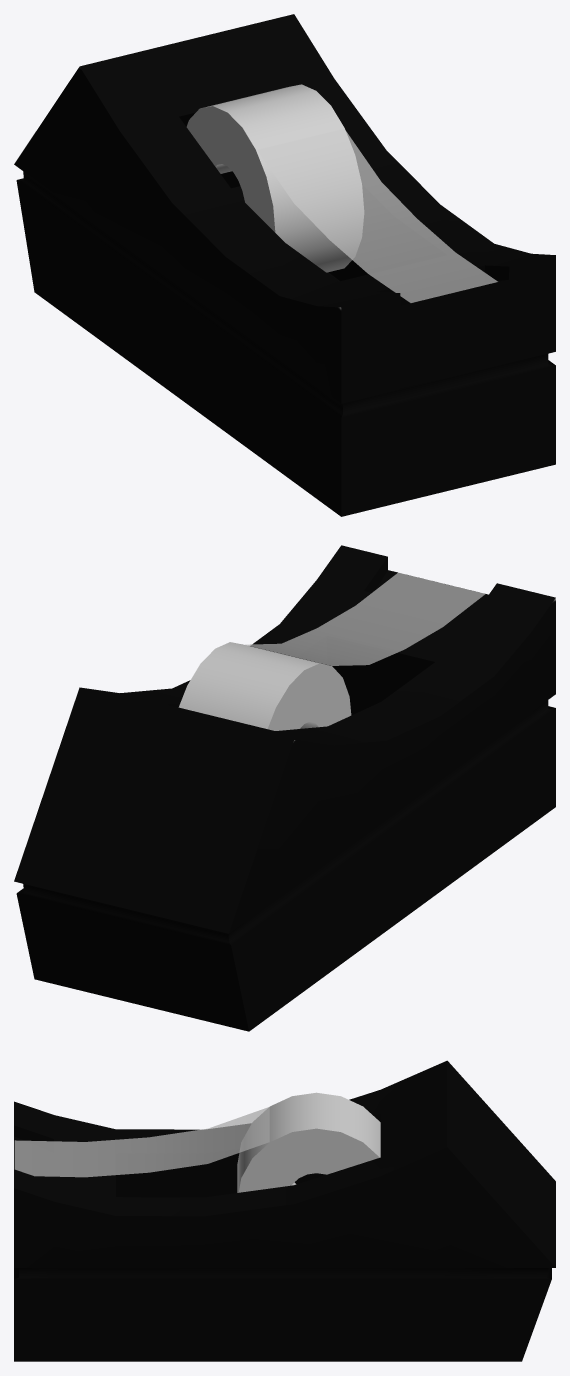
File: TapeDispenser_1.fbx
The picture shows the model from 3 angles, top to bottom: view 1: azimuth 30°, elevation 25°; view 2: azimuth 150°, elevation 25°; view 3: azimuth 270°, elevation 25°; orthographic projection. The views are drawn at different scales.
Parts seen in each view (by area): view 1: TapeDispenser_1; view 2: TapeDispenser_1; view 3: TapeDispenser_1.
Boxes of the visible parts, x1=… form: TapeDispenser_1: x1=14, y1=14, x2=555, y2=516; TapeDispenser_1: x1=14, y1=545, x2=555, y2=1031; TapeDispenser_1: x1=14, y1=1060, x2=555, y2=1361.
Bounding box in the file's own units: 7.22 × 8.32 × 19.07.
